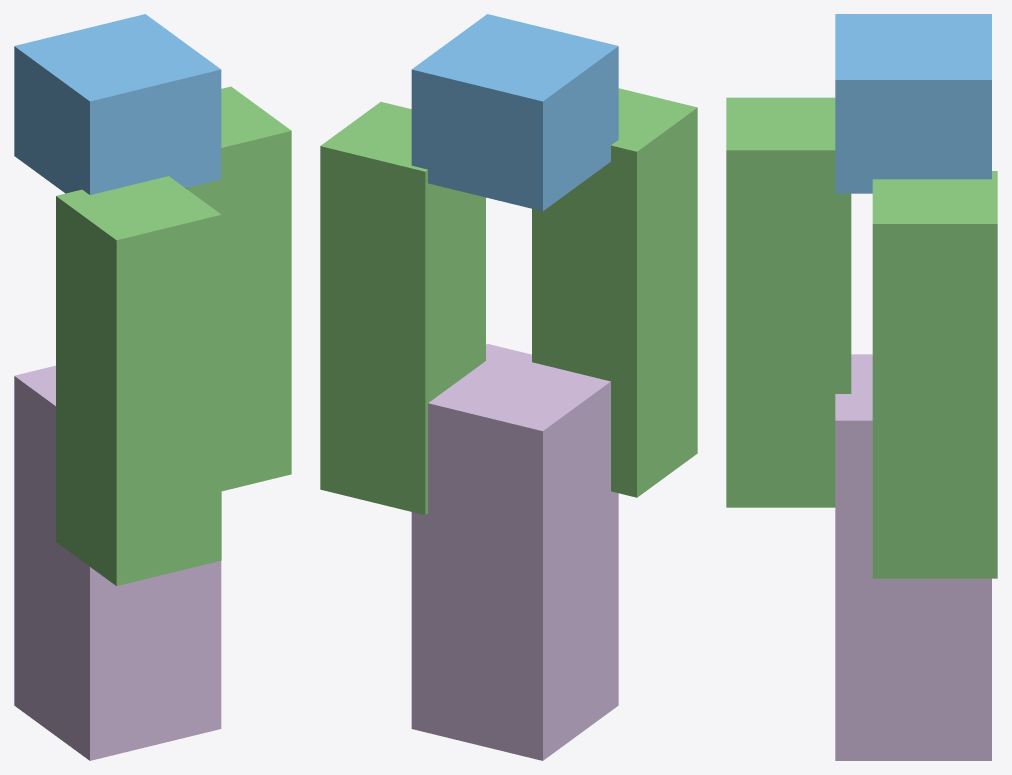
Rendered from Item_Herb_AMF_Dewclaw_Bundle1.glb.
3 renders of one model, left to right at view 1: azimuth 30°, elevation 25°; view 2: azimuth 150°, elevation 25°; view 3: azimuth 270°, elevation 25°, orthographic. The views are drawn at different scales.
Visible parts, largest first — view 1: Item_Herb_AMF_Dewclaw_Bundle1; view 2: Item_Herb_AMF_Dewclaw_Bundle1; view 3: Item_Herb_AMF_Dewclaw_Bundle1.
Part boxes in pixels (x1=…): Item_Herb_AMF_Dewclaw_Bundle1: x1=14, y1=14, x2=291, y2=760; Item_Herb_AMF_Dewclaw_Bundle1: x1=320, y1=14, x2=697, y2=760; Item_Herb_AMF_Dewclaw_Bundle1: x1=726, y1=14, x2=997, y2=760.
Size of the model in its own units: 0.0937 by 0.24 by 0.0867.
